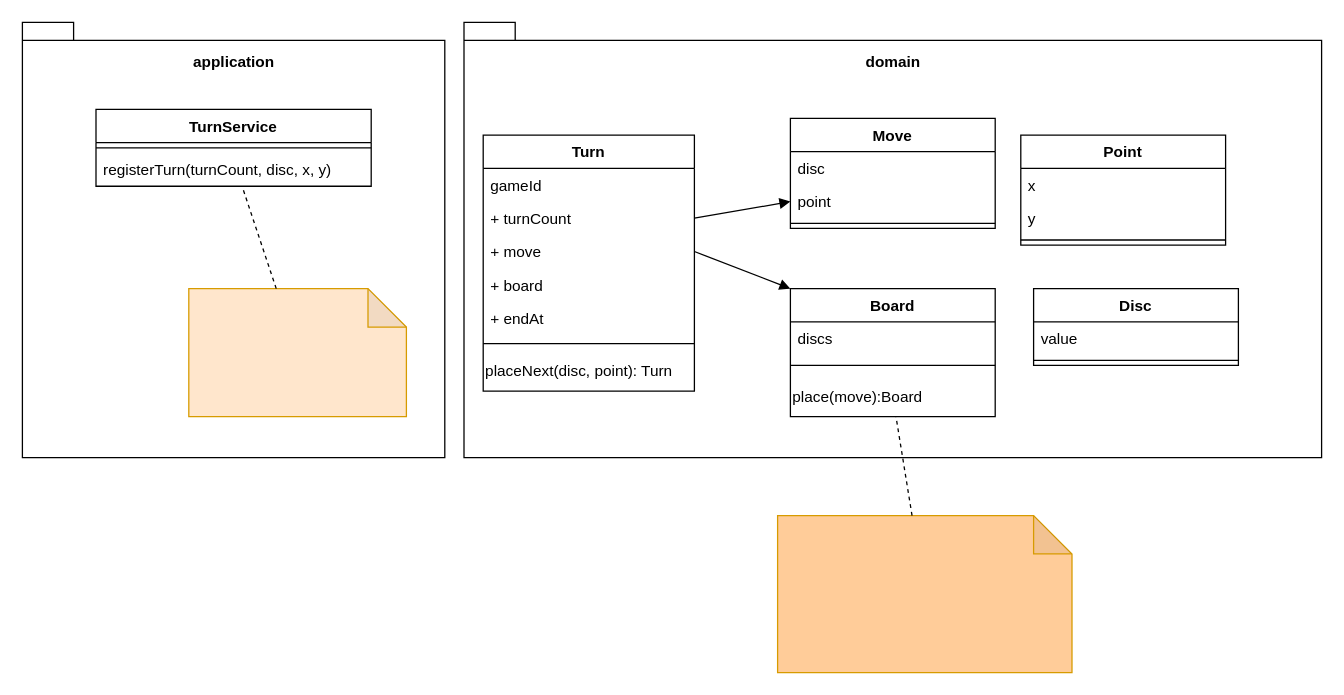
This 1344x695 diagram has some shape labels left out. Each missing label, with the centre of its shape:
Placeの内部では ・盤面におけるかチェック ・石を置く ・ひっくり返す: the point at 924,593
・1つ前のターンを取得する ・石を置く ・ターンを保存する: the point at 297,352
